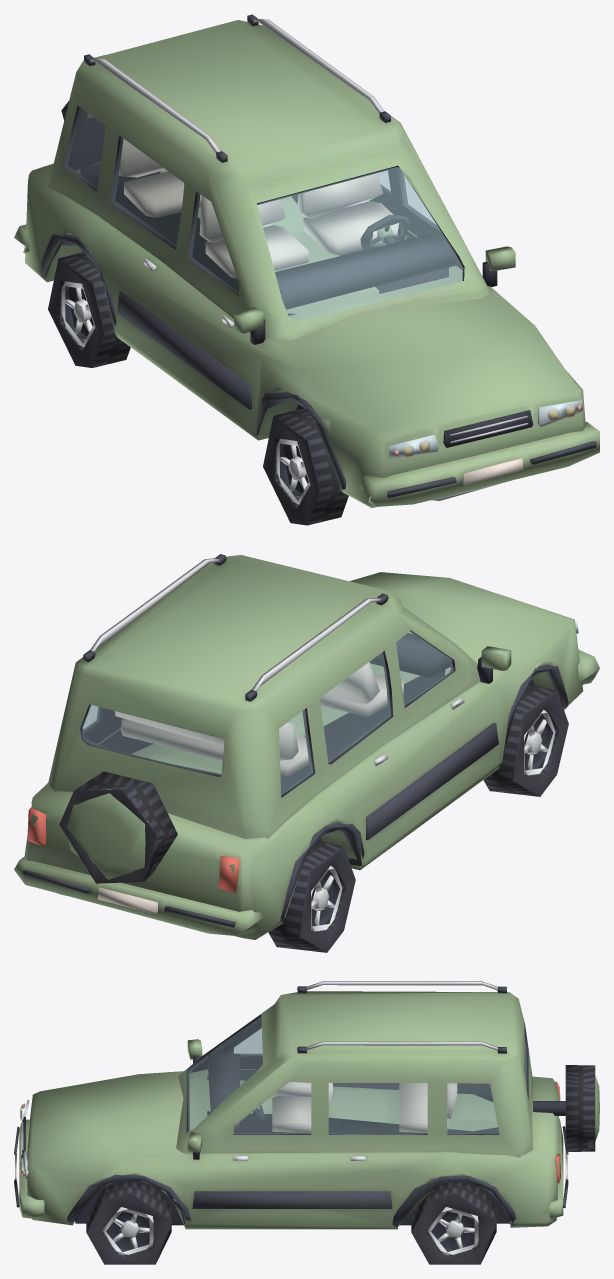
Rendered from g3-1990s-suv-lite.glb.
3 renders of one model, top to bottom at view 1: azimuth 30°, elevation 25°; view 2: azimuth 150°, elevation 25°; view 3: azimuth 270°, elevation 25°, orthographic. The views are drawn at different scales.
Parts seen in each view (by area): view 1: 1990s-suv_body, 1990s-suv_windows, 1990s-suv_wheel_fr, 1990s-suv_wheel_rr; view 2: 1990s-suv_body, 1990s-suv_windows, 1990s-suv_spare_tyre, 1990s-suv_wheel_rr, 1990s-suv_wheel_fr; view 3: 1990s-suv_body, 1990s-suv_windows, 1990s-suv_wheel_fl, 1990s-suv_wheel_rl, 1990s-suv_spare_tyre.
Part boxes in pixels (bbox=[...]): 1990s-suv_body: bbox=[14, 14, 599, 507]; 1990s-suv_windows: bbox=[65, 107, 463, 321]; 1990s-suv_wheel_fr: bbox=[263, 408, 348, 525]; 1990s-suv_wheel_rr: bbox=[48, 252, 130, 367]; 1990s-suv_body: bbox=[14, 554, 599, 939]; 1990s-suv_windows: bbox=[82, 631, 452, 795]; 1990s-suv_spare_tyre: bbox=[59, 771, 177, 883]; 1990s-suv_wheel_rr: bbox=[268, 840, 355, 952]; 1990s-suv_wheel_fr: bbox=[483, 684, 568, 796]; 1990s-suv_body: bbox=[14, 981, 568, 1229]; 1990s-suv_windows: bbox=[188, 1017, 526, 1134]; 1990s-suv_wheel_fl: bbox=[86, 1181, 171, 1264]; 1990s-suv_wheel_rl: bbox=[411, 1181, 496, 1264]; 1990s-suv_spare_tyre: bbox=[533, 1065, 599, 1151].
Bounding box in the file's own units: 1.94 × 1.88 × 4.69.
8 materials, 2 textured.
